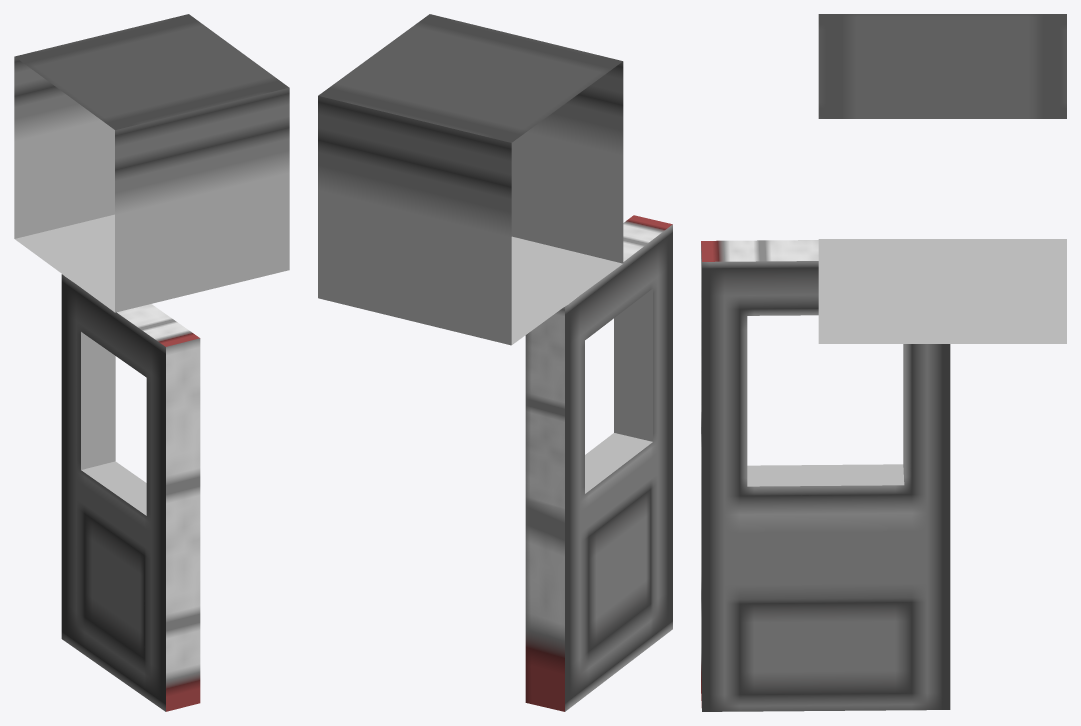
Rendered from Door_openness_3.fbx.
The picture shows the model from 3 angles, left to right: view 1: azimuth 30°, elevation 25°; view 2: azimuth 150°, elevation 25°; view 3: azimuth 270°, elevation 25°; orthographic projection. The views are drawn at different scales.
Visible parts, largest first — view 1: Door_3; view 2: Door_3; view 3: Door_3.
Part boxes in pixels (x1,y1,x2,y2): Door_3: (14,14,289,711); Door_3: (318,14,672,711); Door_3: (701,14,1066,711).
Size of the model in its own units: 100 by 300 by 147.
